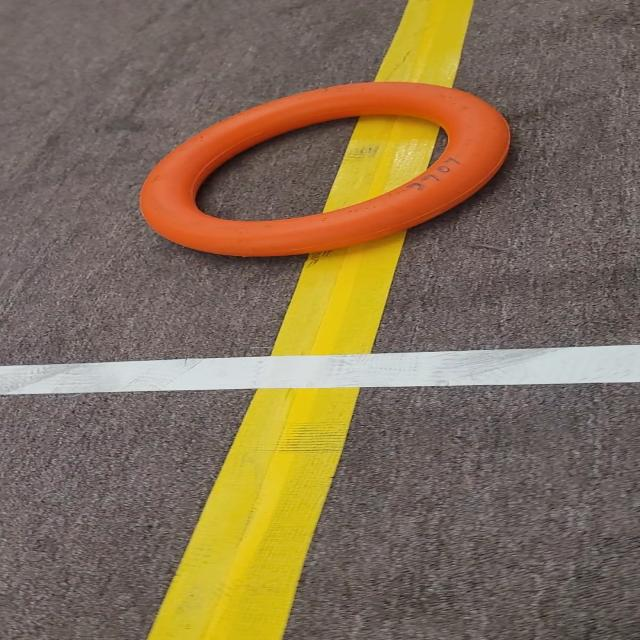note: (135, 77, 528, 271)
